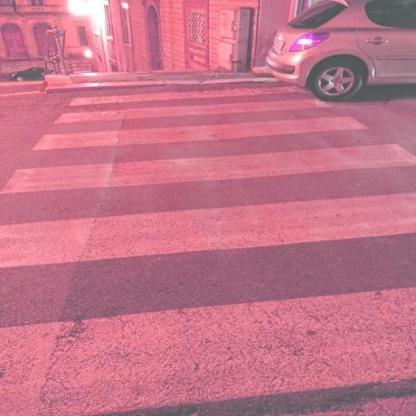crosswalk: (2, 191, 416, 415), (25, 95, 380, 154)
